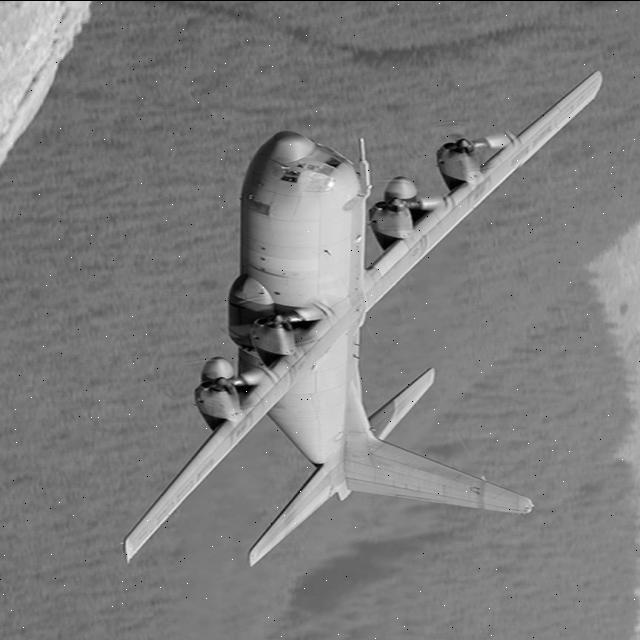C130: (82, 51, 628, 617)
